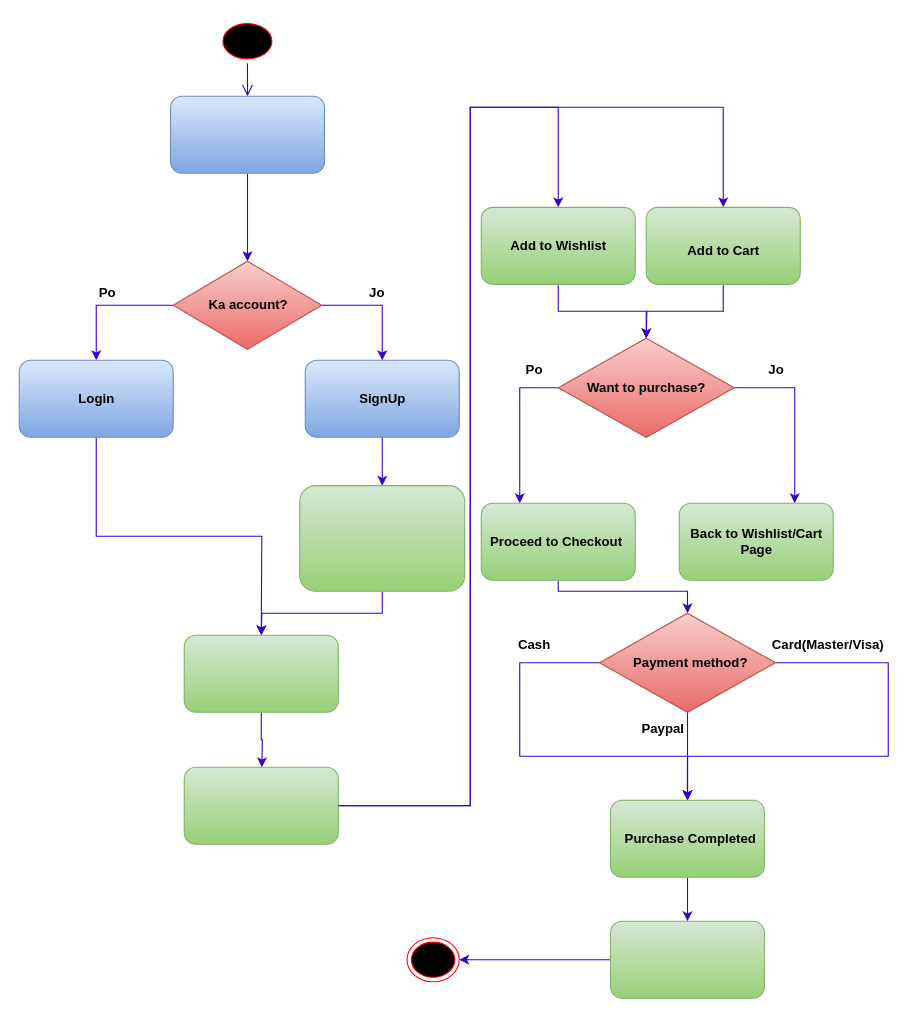
The diagram is 916 pixels wide and 1018 high, and some of its shapes have lost their labels. Each missing label, with the box of its shape:
Browse Shoes: (183, 766, 338, 844)
Fill the fields: Name, Surname, Email, Password: (299, 485, 465, 591)
Login/SignUp: (169, 95, 324, 173)
Navigate to Gallery: (183, 634, 338, 712)
Shipping status (pending, shipped, delivered, cancelled): (609, 920, 765, 998)
